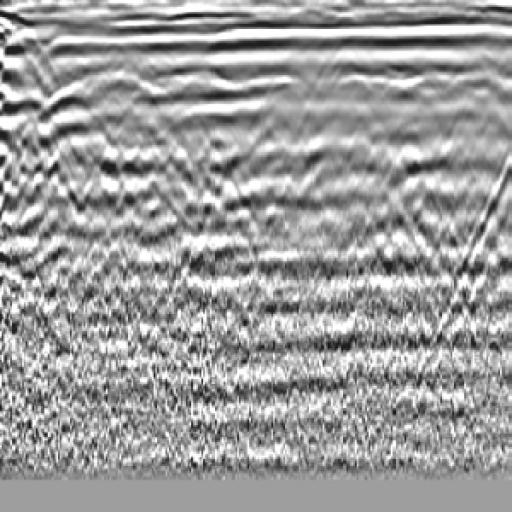metalic: (324, 60, 454, 148)
